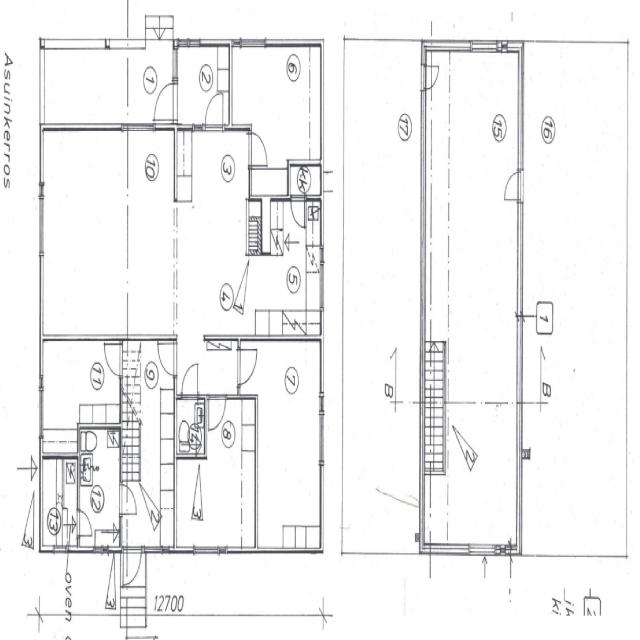door: (154, 84, 178, 120), (237, 349, 259, 385), (123, 548, 141, 588), (208, 395, 226, 433), (157, 343, 177, 376), (248, 133, 268, 165), (103, 344, 122, 376), (503, 172, 523, 200), (206, 94, 221, 131), (119, 484, 137, 514), (182, 365, 197, 400), (420, 66, 438, 90), (291, 196, 304, 227), (78, 511, 94, 536)
